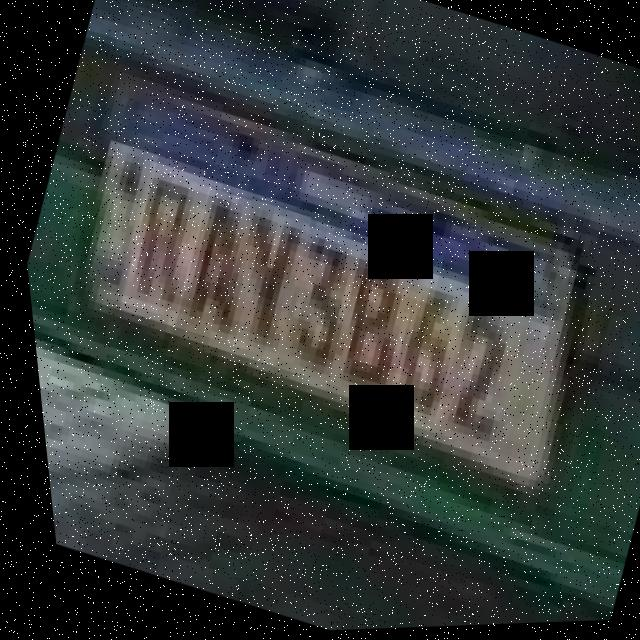3: (256, 224, 373, 386)
6: (368, 270, 477, 428)
A: (156, 187, 269, 347)
B: (309, 244, 425, 404)
R: (99, 161, 220, 329)
Y: (198, 198, 317, 359)
